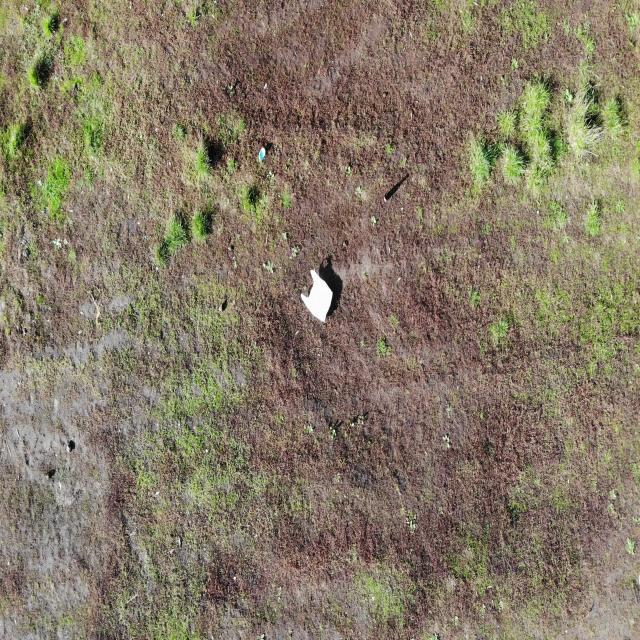rubbish: (299, 267, 333, 325), (256, 146, 268, 164)
